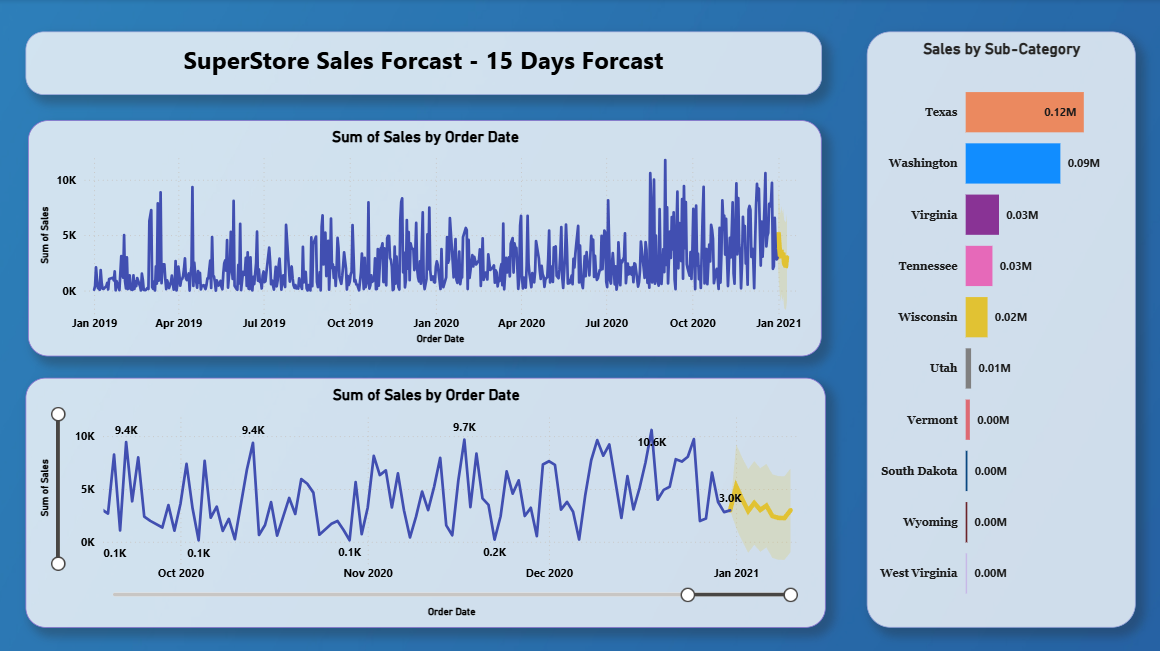

Layout of this report page (visuals, bound fields, positions):
{"tool":"powerbi","page":{"name":"Page 2","canvas":[1280,720],"ordinal":1},"visuals":[{"type":"lineChart","fields":{"Y":["Sum(SuperStore_Sales_Dataset.Sales)"],"Category":["SuperStore_Sales_Dataset.Order Date"]},"box":[32.9,133.1,871.4,259.3],"z":0},{"type":"lineChart","fields":{"Y":["Sum(SuperStore_Sales_Dataset.Sales)"],"Category":["SuperStore_Sales_Dataset.Order Date"]},"box":[30.2,415.8,878.2,274.4],"z":1000},{"type":"clusteredBarChart","title":"Sales by Sub-Category","fields":{"Y":["Sum(SuperStore_Sales_Dataset.Sales)"],"Category":["SuperStore_Sales_Dataset.State"]},"box":[953.7,35.7,295,654.5],"z":2000},{"type":"textbox","box":[30.2,35.7,874.1,70],"z":3000}]}

Visuals, with their boxes in screenshot pixels (x1, y1, x2, y2), scaled from the page's 1280x720 canvas onto the 1160x651 screenshot:
lineChart - Sum(SuperStore_Sales_Dataset.Sales) x SuperStore_Sales_Dataset.Order Date: [x1=30, y1=120, x2=820, y2=355]
lineChart - Sum(SuperStore_Sales_Dataset.Sales) x SuperStore_Sales_Dataset.Order Date: [x1=27, y1=376, x2=823, y2=624]
"Sales by Sub-Category" clusteredBarChart: [x1=864, y1=32, x2=1132, y2=624]
textbox: [x1=27, y1=32, x2=820, y2=96]
